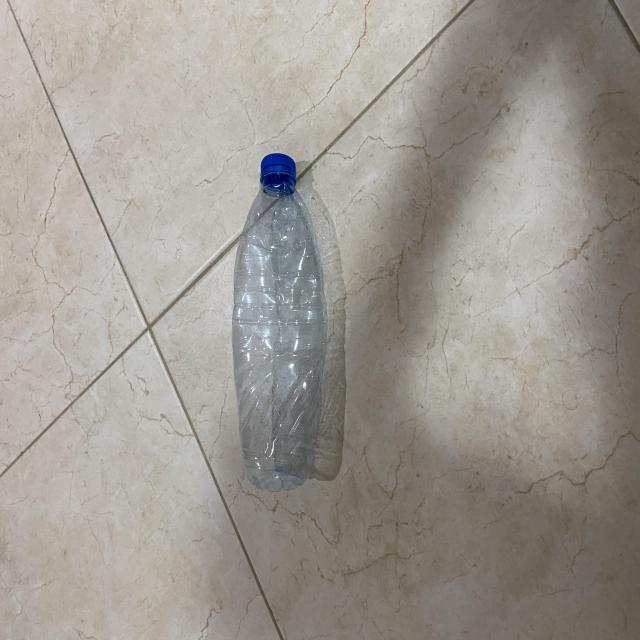plastic: (229, 147, 327, 507)
